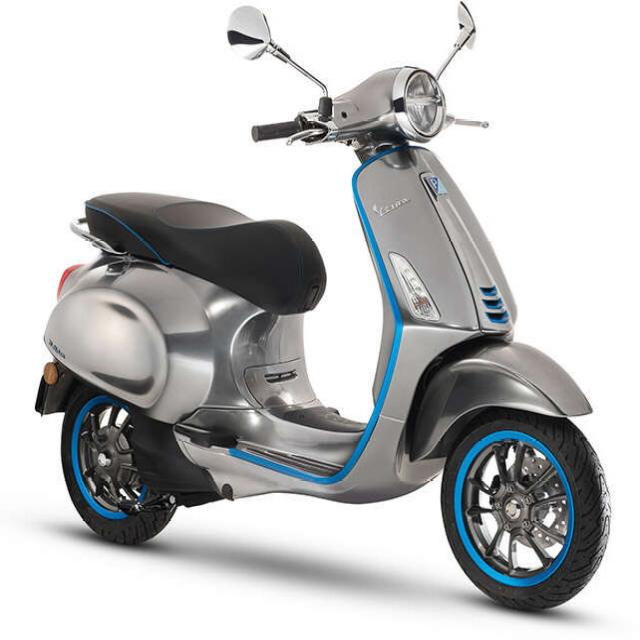Bike: (36, 3, 609, 609)
